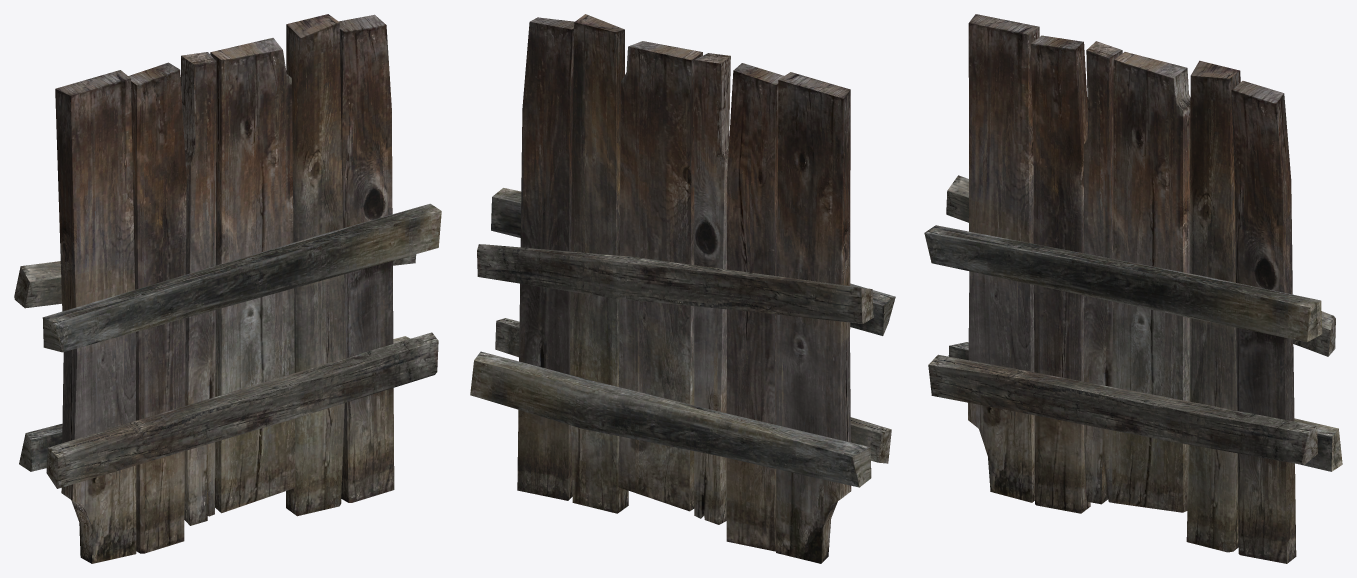
Rendered from OrcProp04.FBX.
3 views of the same model, side by side, from view 1: azimuth 30°, elevation 25°; view 2: azimuth 150°, elevation 25°; view 3: azimuth 330°, elevation 25° (orthographic). The views are drawn at different scales.
Visible parts, largest first — view 1: LV_TurtleLake_LakeTower_OrcProp04_SM_KYS; view 2: LV_TurtleLake_LakeTower_OrcProp04_SM_KYS; view 3: LV_TurtleLake_LakeTower_OrcProp04_SM_KYS.
Boxes of the visible parts, left/top/right/bottom form: LV_TurtleLake_LakeTower_OrcProp04_SM_KYS: left=14, top=14, right=441, bottom=563; LV_TurtleLake_LakeTower_OrcProp04_SM_KYS: left=470, top=14, right=895, bottom=563; LV_TurtleLake_LakeTower_OrcProp04_SM_KYS: left=924, top=14, right=1342, bottom=563.
Size of the model in its own units: 53.98 by 63.03 by 9.24.
